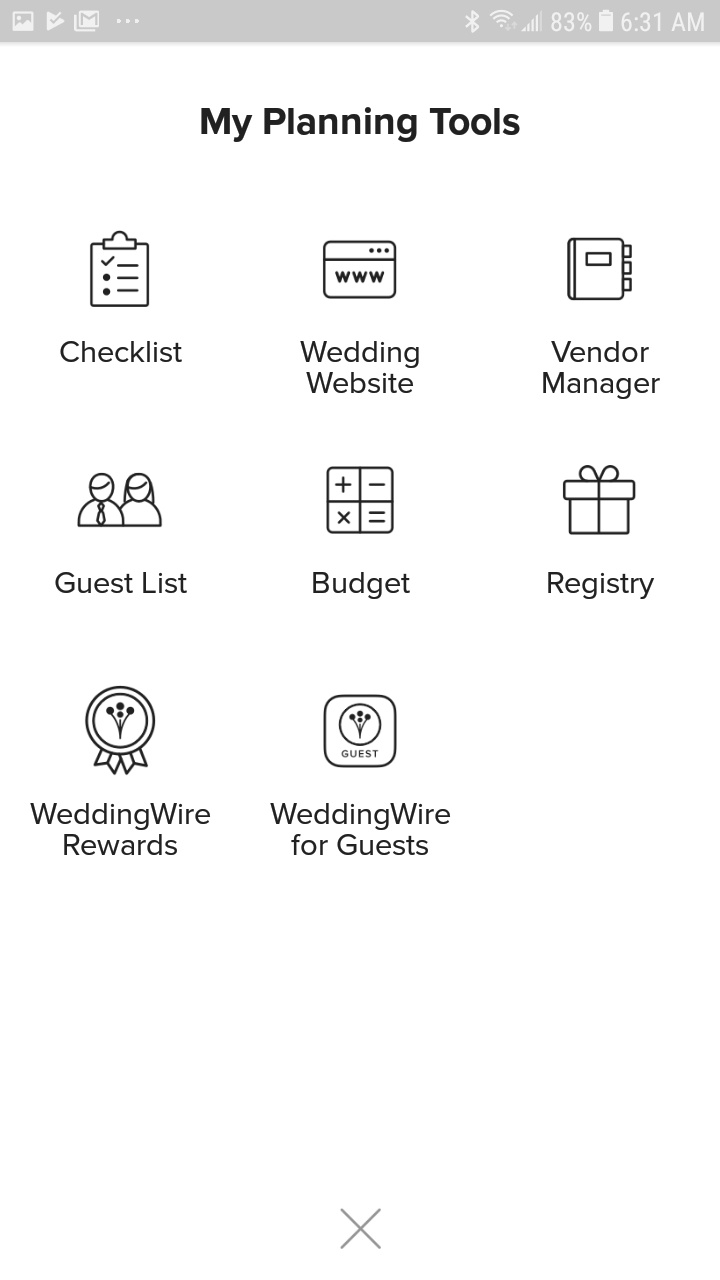Icon: (563, 465, 636, 536), (90, 231, 150, 308), (323, 240, 398, 300), (567, 237, 633, 302), (340, 1208, 382, 1250)
Image: (85, 686, 157, 776), (323, 694, 398, 769), (326, 466, 395, 535), (78, 473, 163, 528)
Text: (201, 108, 521, 144), (270, 802, 451, 856), (31, 803, 211, 856), (542, 341, 661, 400), (300, 341, 420, 395), (548, 572, 655, 600), (55, 572, 188, 594), (61, 341, 183, 364), (313, 572, 411, 600)
UpperTaskBar: (1, 1, 720, 43)
